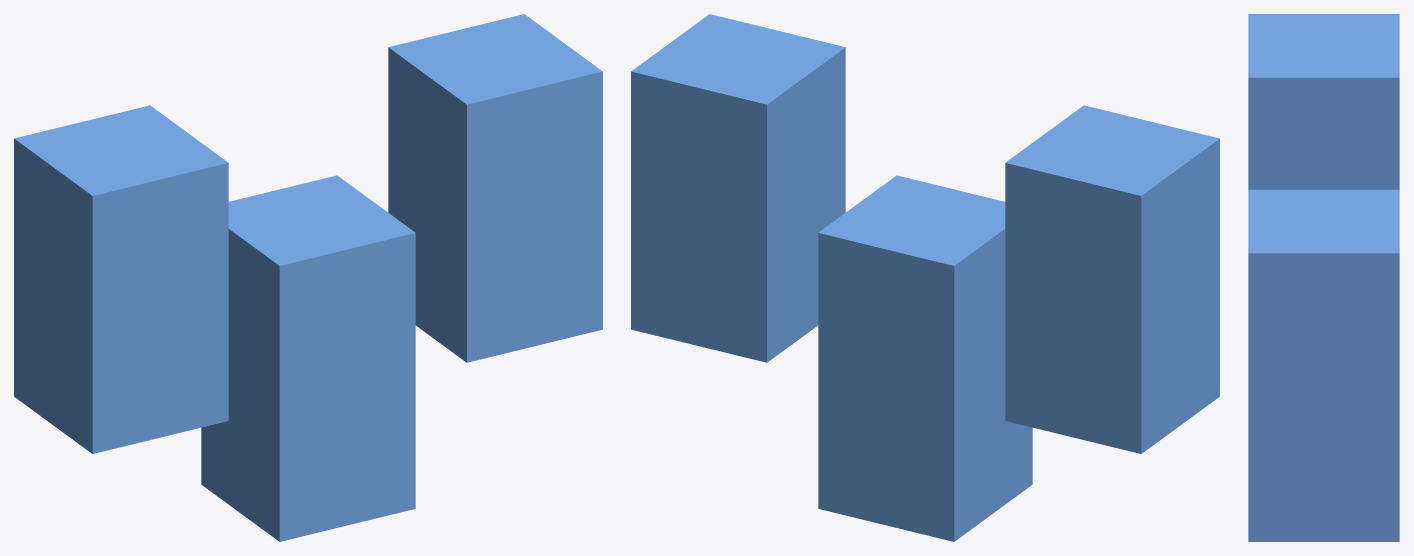
The model's file is grouped parts.gltf.
3 views of the same model, side by side, from view 1: azimuth 30°, elevation 25°; view 2: azimuth 150°, elevation 25°; view 3: azimuth 270°, elevation 25° (orthographic). The views are drawn at different scales.
Parts seen in each view (by area): view 1: Left Panel B, Right Panel B, Loose Detail, Left Panel A, Tagged CAD Fastener, Right Panel A; view 2: Left Panel B, Right Panel B, Loose Detail, Left Panel A, Tagged CAD Fastener, Right Panel A; view 3: Right Panel B, Left Panel B, Right Panel A, Tagged CAD Fastener.
Boxes of the visible parts, x1,y1,x2,y2 form: Left Panel B: (14, 105, 228, 337); Right Panel B: (388, 14, 602, 246); Loose Detail: (228, 175, 415, 407); Left Panel A: (14, 254, 228, 453); Tagged CAD Fastener: (201, 362, 415, 541); Right Panel A: (388, 163, 602, 362); Left Panel B: (1005, 105, 1219, 337); Right Panel B: (631, 14, 845, 246); Loose Detail: (818, 175, 1005, 408); Left Panel A: (1005, 254, 1219, 453); Tagged CAD Fastener: (818, 363, 1032, 541); Right Panel A: (631, 163, 845, 362); Right Panel B: (1248, 189, 1399, 390); Left Panel B: (1248, 14, 1399, 188); Right Panel A: (1248, 364, 1399, 501); Tagged CAD Fastener: (1248, 501, 1399, 541).
Bounding box in the file's own units: 3 × 2.2 × 0.8.
